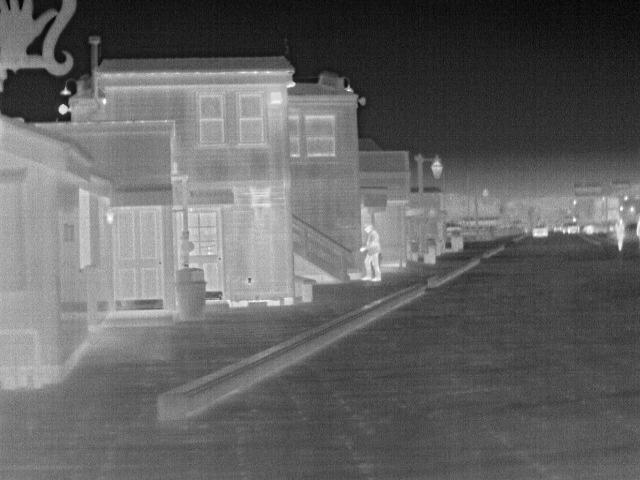car: (584, 220, 618, 236), (529, 222, 550, 238), (562, 220, 582, 236)
person: (358, 222, 388, 285), (614, 218, 628, 252)
